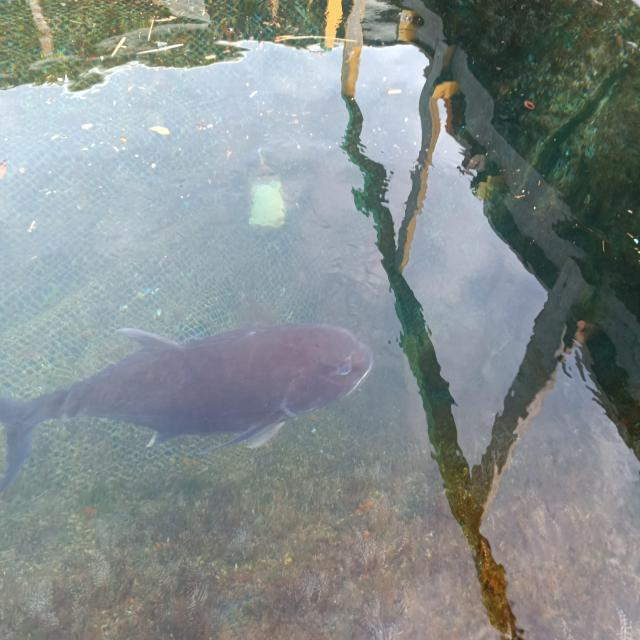ikan: (38, 307, 388, 462)
